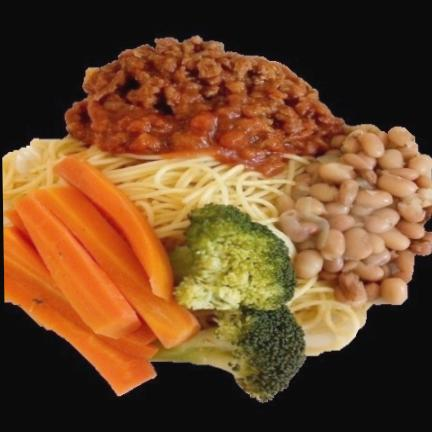beans: (278, 128, 432, 305)
broccoli: (156, 204, 305, 401)
carrot: (3, 156, 199, 394)
meat: (66, 37, 343, 174)
pasta: (2, 137, 308, 247), (291, 278, 370, 354)
